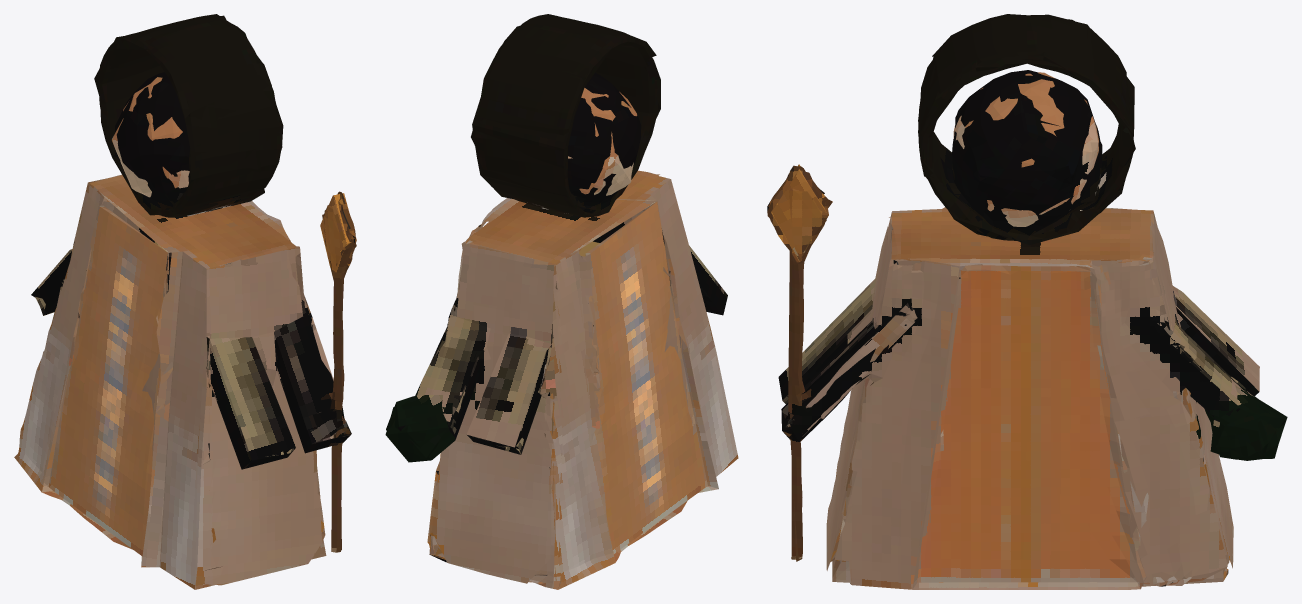
Rendered from SM_Saint_QuadRetro.glb.
3 views of the same model, side by side, from view 1: azimuth 30°, elevation 25°; view 2: azimuth 150°, elevation 25°; view 3: azimuth 270°, elevation 25° (orthographic). The views are drawn at different scales.
Parts seen in each view (by area): view 1: Saint_QuadRemesh; view 2: Saint_QuadRemesh; view 3: Saint_QuadRemesh.
Boxes of the visible parts, x1,y1,x2,y2 form: Saint_QuadRemesh: (14, 14, 356, 589); Saint_QuadRemesh: (385, 14, 738, 589); Saint_QuadRemesh: (767, 14, 1287, 589).
Bounding box in the file's own units: 0.7825 × 2 × 1.79.
Materials: 1 (1 with a texture image).
